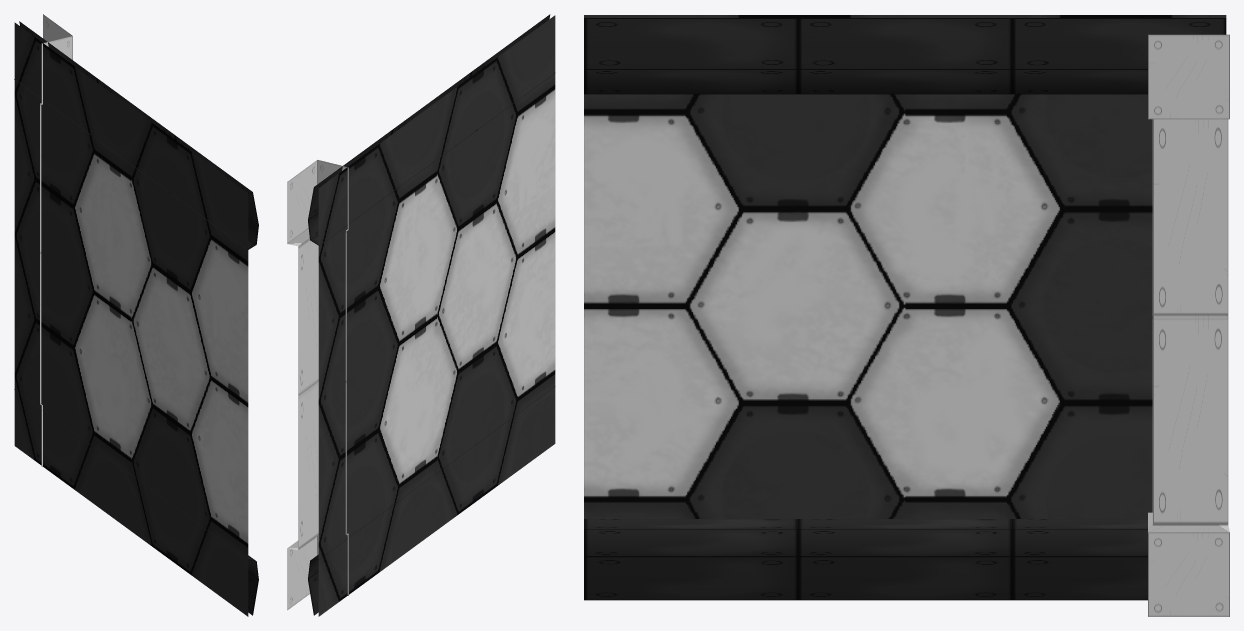
Rendered from Wall_URight.fbx.
3 renders of one model, left to right at view 1: azimuth 30°, elevation 25°; view 2: azimuth 150°, elevation 25°; view 3: azimuth 270°, elevation 25°, orthographic. The views are drawn at different scales.
Parts seen in each view (by area): view 1: pPlane146; view 2: pPlane146; view 3: pPlane146.
Boxes of the visible parts, bbox=[...] form: pPlane146: bbox=[14, 14, 258, 616]; pPlane146: bbox=[287, 14, 555, 616]; pPlane146: bbox=[584, 15, 1229, 616].
Size of the model in its own units: 0.1534 by 2 by 2.01.
